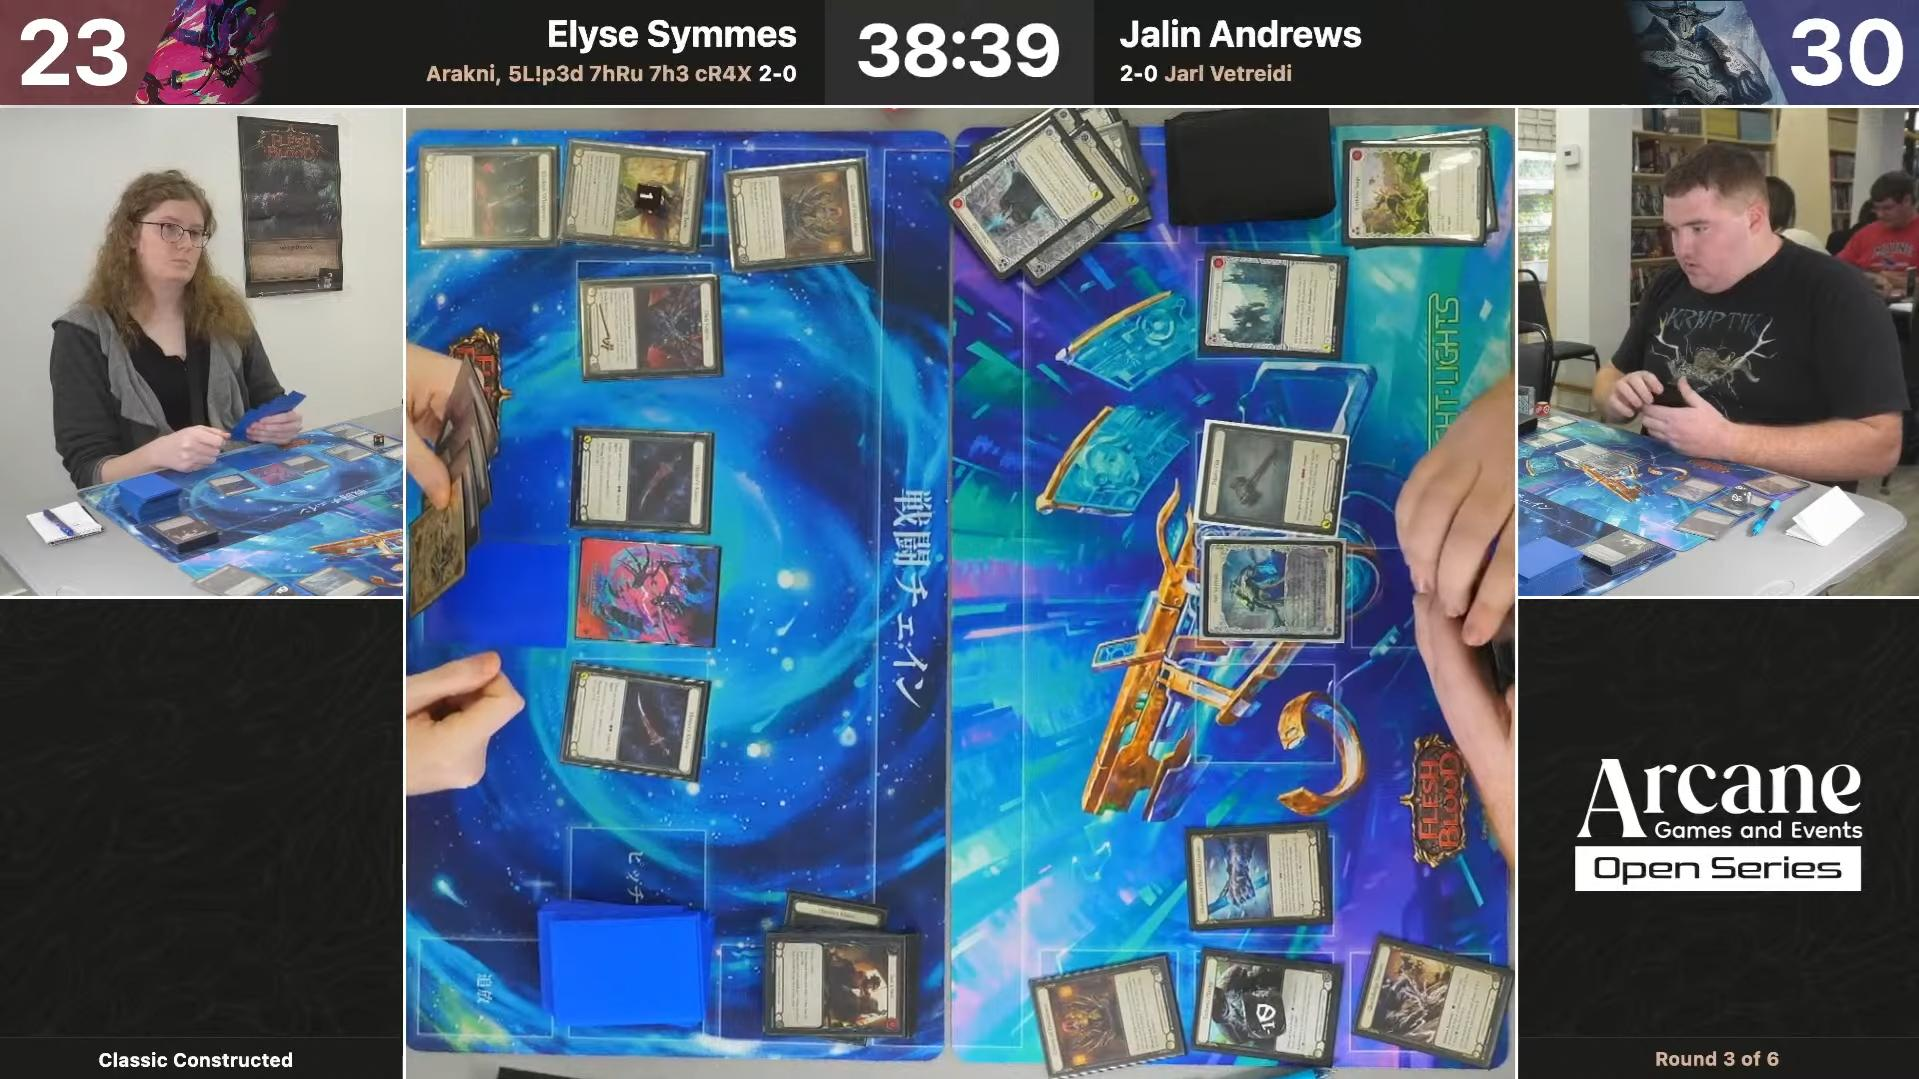Card: (949, 109, 1115, 282), (1350, 931, 1514, 1068), (1028, 951, 1186, 1078), (554, 660, 710, 783), (1188, 943, 1340, 1067), (760, 924, 916, 1042), (1193, 418, 1344, 538), (1343, 129, 1491, 249), (724, 155, 869, 275), (560, 137, 706, 253), (577, 266, 724, 378), (1184, 818, 1332, 927), (572, 538, 722, 646), (1195, 249, 1340, 358), (568, 426, 717, 531), (1195, 534, 1342, 640), (416, 142, 556, 249), (410, 482, 472, 611), (440, 354, 493, 478), (778, 887, 890, 930)
